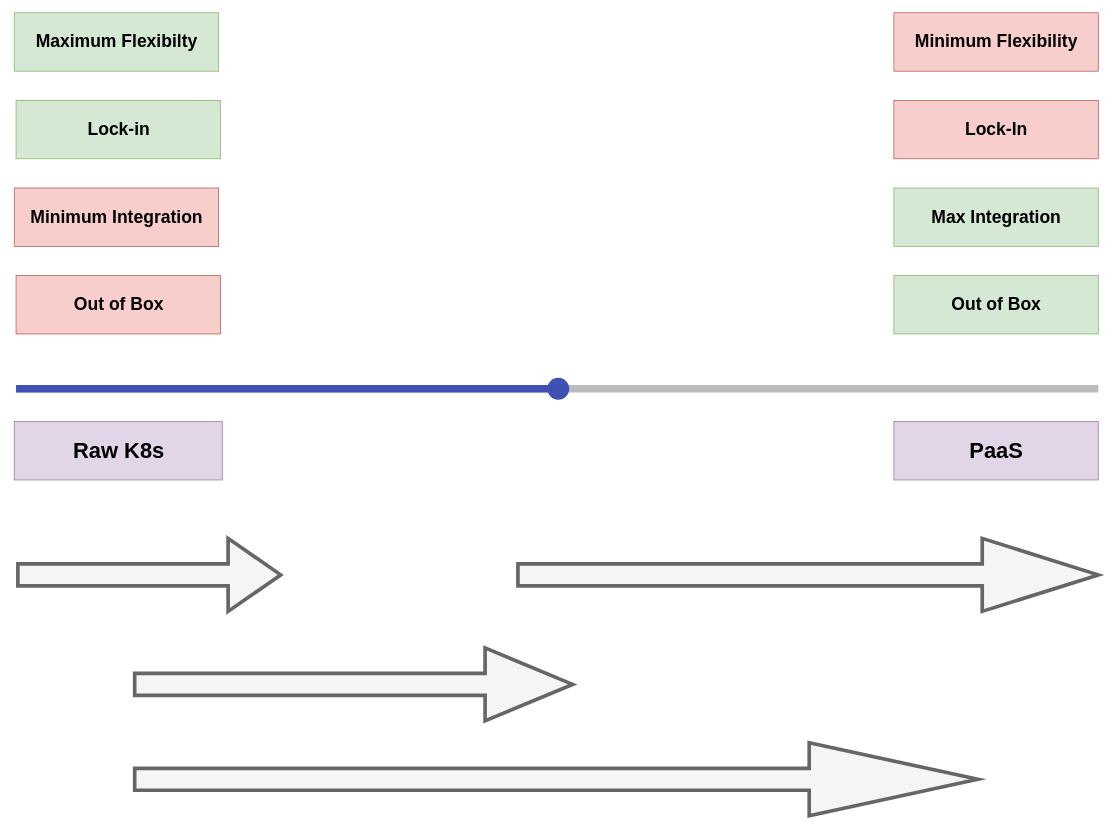
The diagram is 1115 pixels wide and 830 high, and some of its shapes have lost their labels. Each missing label, with the centre of its shape:
"Canonical" belongs at (x=149, y=574).
"OpenShift" belongs at (x=808, y=574).
"Rancher" belongs at (x=353, y=684).
"Tanzu" belongs at (x=555, y=779).
